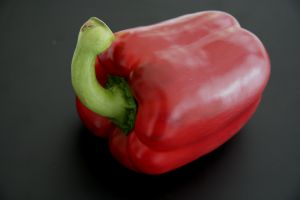capsicum: (70, 10, 270, 174)
